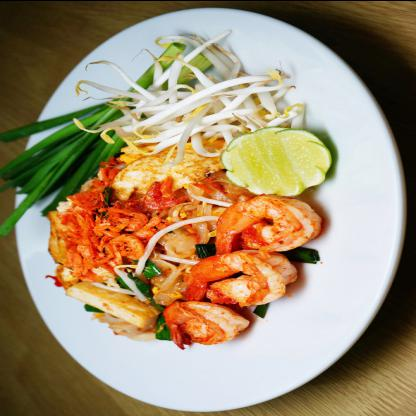Pad Thai: (35, 33, 344, 347)
